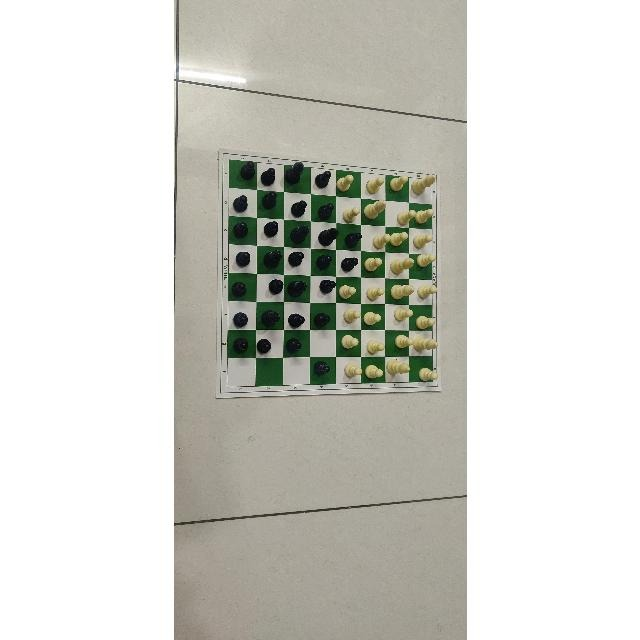black-bishop: (285, 165, 309, 189), (286, 280, 310, 303), (364, 198, 387, 221), (314, 227, 344, 244), (288, 223, 309, 244), (262, 249, 282, 270), (260, 308, 279, 328)
black-pawn: (259, 187, 281, 217), (316, 274, 338, 304), (314, 198, 336, 226), (257, 336, 282, 359), (261, 215, 281, 243), (314, 353, 332, 384), (287, 196, 311, 219), (232, 332, 254, 357), (230, 280, 254, 302), (229, 304, 250, 327), (287, 247, 306, 272), (347, 227, 365, 252), (264, 275, 282, 299), (313, 306, 335, 325), (287, 309, 310, 327), (239, 156, 255, 181), (315, 168, 331, 193), (312, 250, 333, 269), (282, 333, 301, 353), (231, 194, 249, 214), (340, 253, 358, 272), (260, 166, 275, 188), (232, 220, 247, 239), (235, 249, 250, 268)
white-bishop: (409, 173, 439, 196), (385, 358, 410, 382), (390, 254, 412, 276), (414, 338, 444, 354), (391, 285, 413, 302), (414, 211, 432, 226)
white-pawn: (335, 170, 360, 192), (386, 168, 407, 193), (394, 204, 415, 228), (414, 229, 437, 250), (341, 205, 363, 223), (369, 170, 385, 194), (415, 253, 437, 269), (393, 305, 412, 323), (372, 232, 390, 250), (363, 256, 382, 273), (415, 284, 436, 299), (365, 286, 384, 302), (418, 366, 438, 381), (342, 307, 360, 323), (393, 230, 408, 249), (415, 316, 435, 330), (362, 310, 380, 325), (340, 334, 358, 349), (366, 339, 384, 354), (395, 334, 413, 349), (344, 362, 362, 377), (364, 365, 383, 379), (338, 285, 355, 300)
